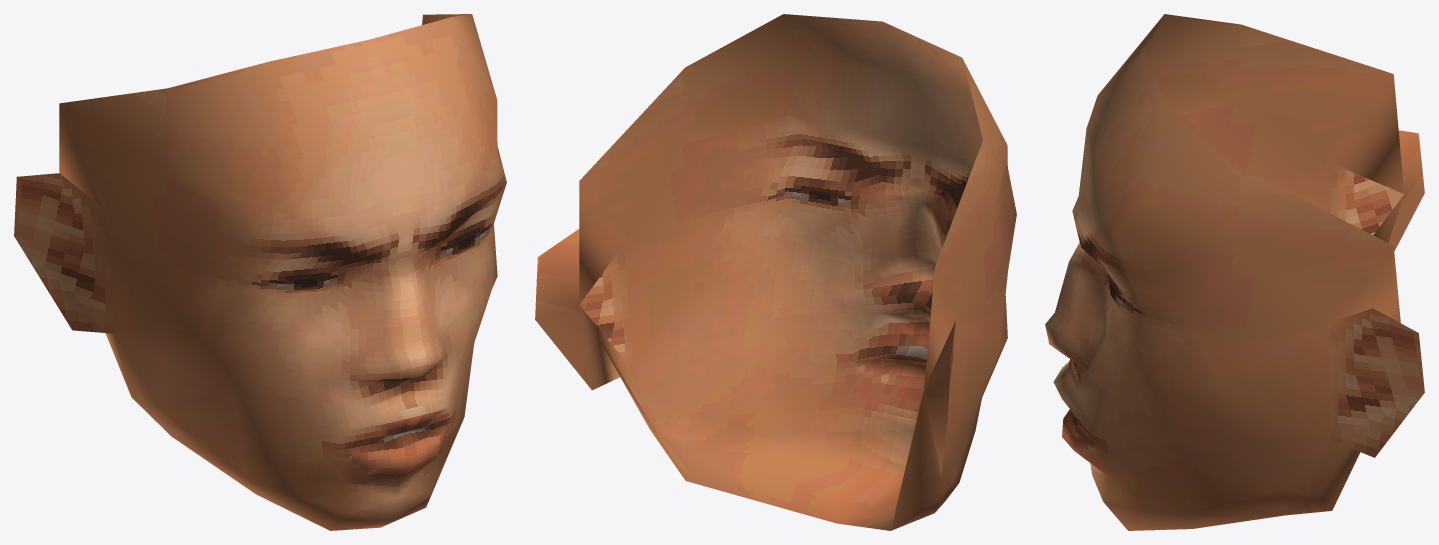
Rendered from m_hair012.glb.
3 renders of one model, left to right at view 1: azimuth 30°, elevation 25°; view 2: azimuth 150°, elevation 25°; view 3: azimuth 270°, elevation 25°, orthographic. The views are drawn at different scales.
Size of the model in its own units: 17.18 by 18.64 by 13.81.
1 material, 1 textured.
